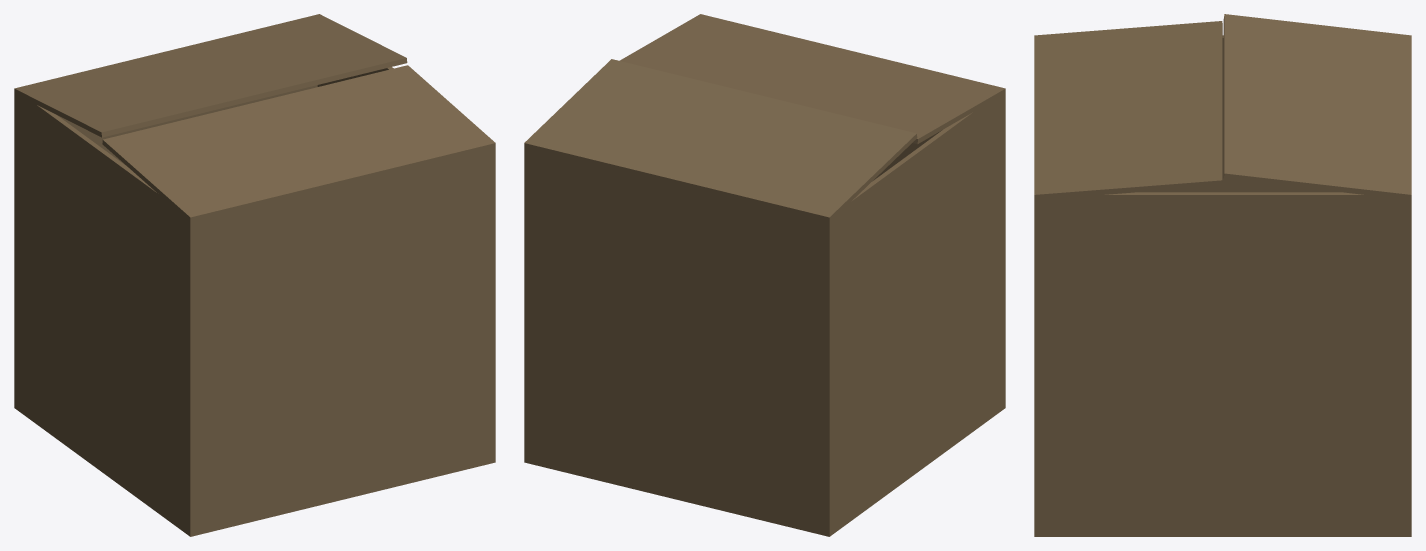
File: CardboardBox.fbx
3 views of the same model, side by side, from view 1: azimuth 30°, elevation 25°; view 2: azimuth 150°, elevation 25°; view 3: azimuth 270°, elevation 25° (orthographic). The views are drawn at different scales.
Parts seen in each view (by area): view 1: Box, Lid.001, Lid.002; view 2: Box, Lid.002, Lid.001; view 3: Box, Lid.002, Lid.001.
Part boxes in pixels (x1=…): Box: x1=14, y1=67, x2=495, y2=536; Lid.001: x1=102, y1=65, x2=495, y2=221; Lid.002: x1=14, y1=14, x2=407, y2=137; Box: x1=524, y1=91, x2=1005, y2=536; Lid.002: x1=524, y1=59, x2=917, y2=221; Lid.001: x1=619, y1=14, x2=1005, y2=144; Box: x1=1034, y1=35, x2=1411, y2=536; Lid.002: x1=1223, y1=14, x2=1411, y2=199; Lid.001: x1=1034, y1=21, x2=1222, y2=199.
Bounding box in the file's own units: 60.96 × 64.78 × 60.96.
